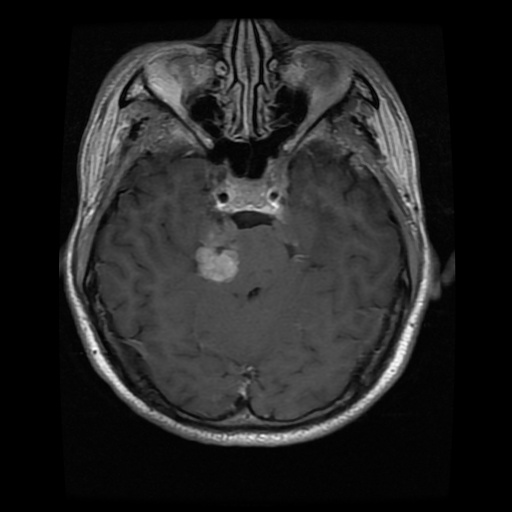meningioma: (194, 244, 236, 279)
